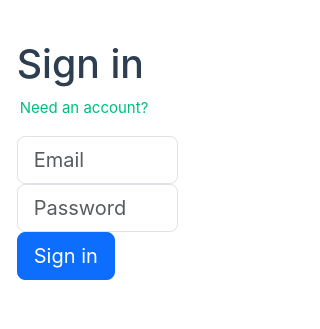
Scenario: LoginPage › error formatting › joins multiple messages for one field with a comma
This screenshot has width=320, height=329.
Type "jane@example.com" into the field with placeholder "Email" at (98, 160), box [17,136,178,184]
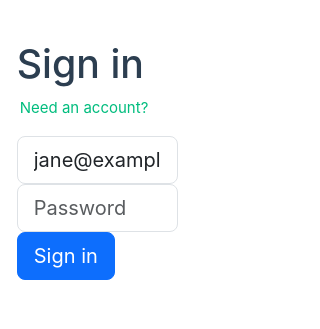
Type "secret" into the password field with placeholder "Password" at (98, 208), box [17,184,178,232]
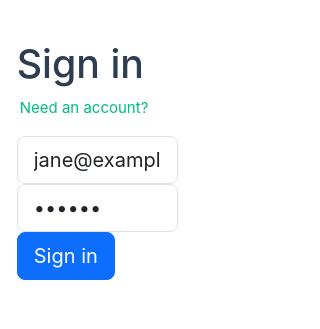
Submit the form, box [17,136,178,280]
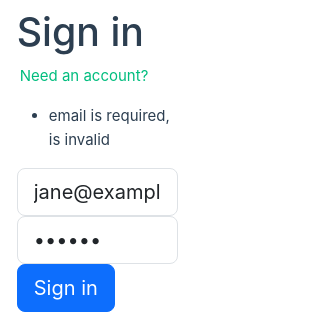
Now the list item "email is required, is invalid" is shown, box [49,104,178,152]
